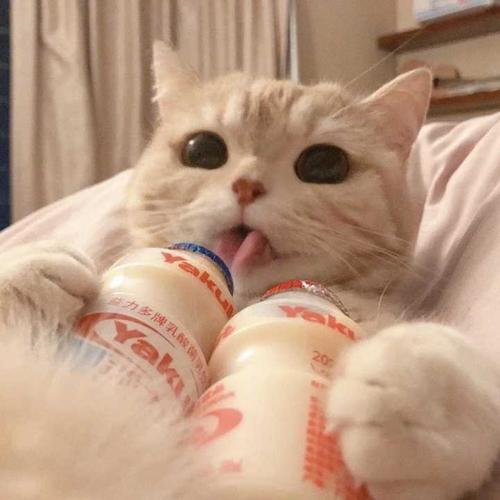cat: (115, 36, 455, 326)
